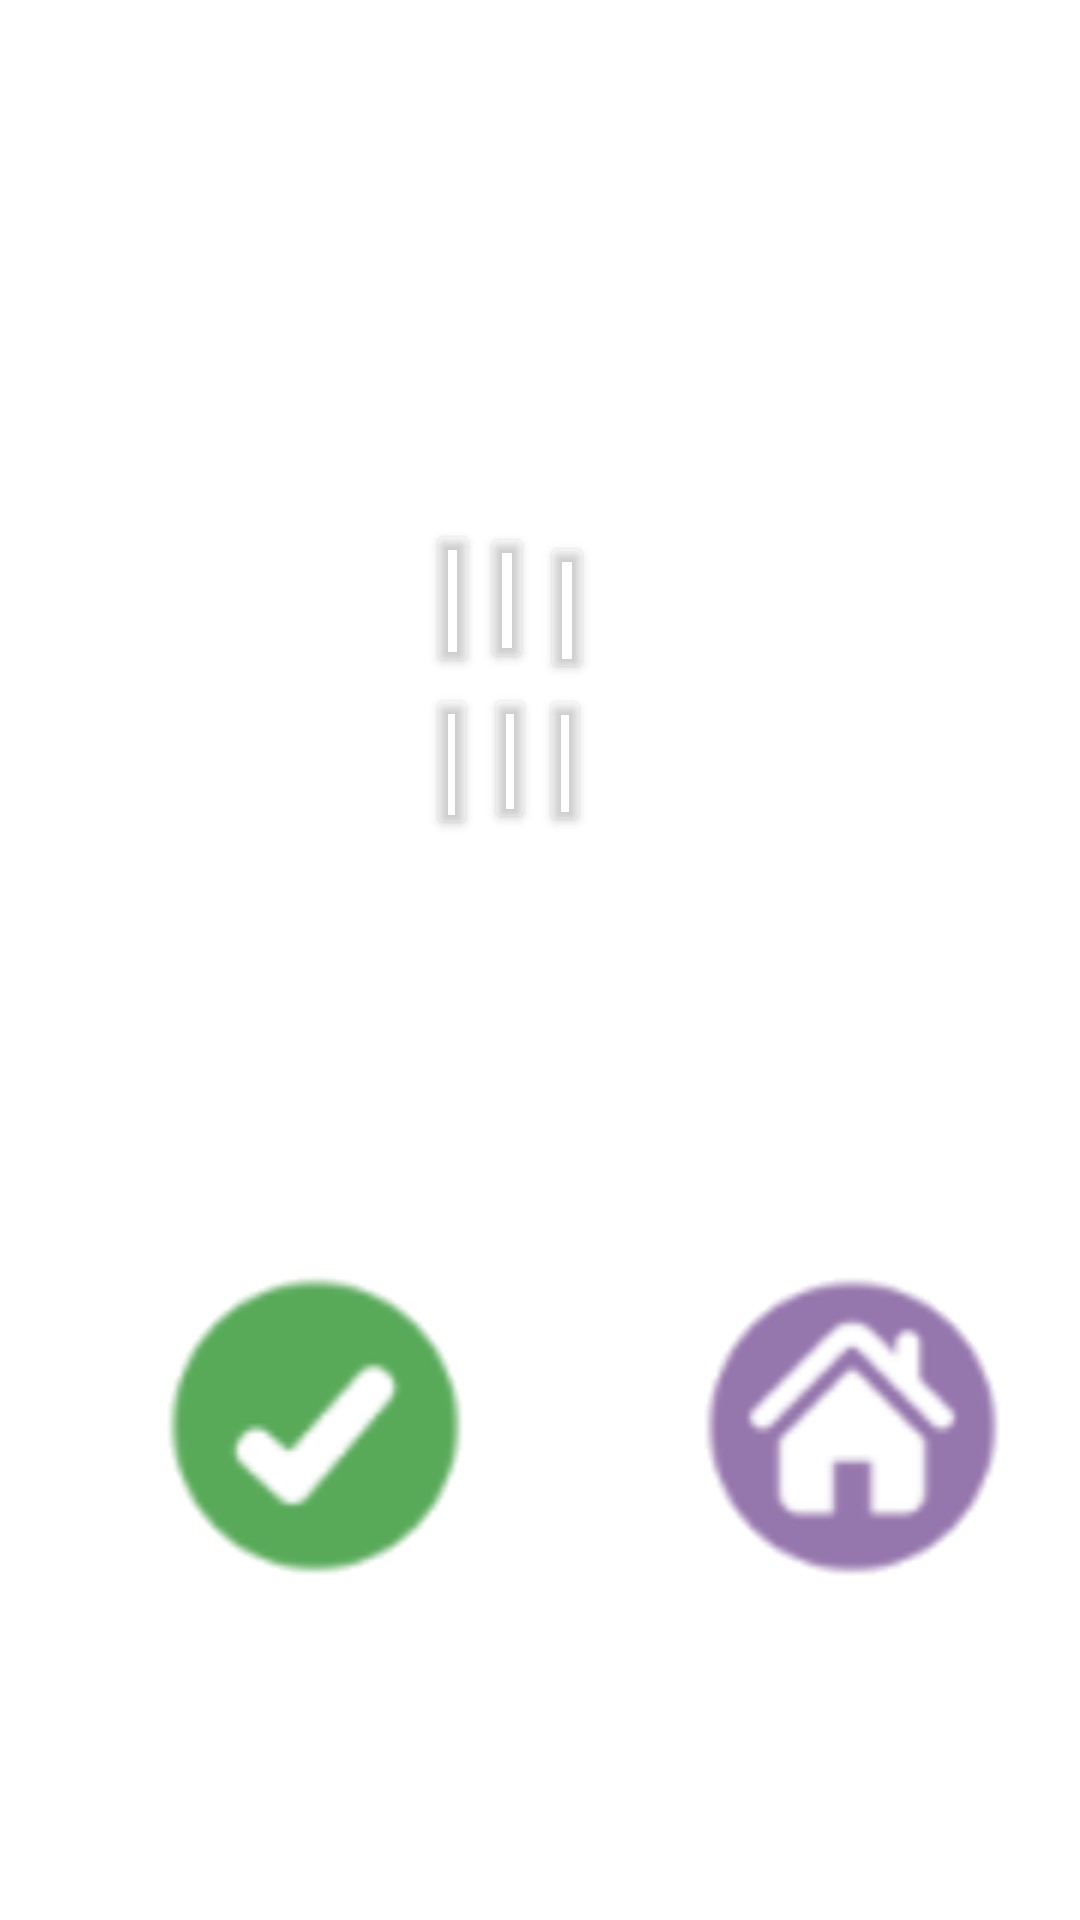

Point at icon controls on the screen. Image size 1080*1920, points as point (x, y).
check: point (315, 1426)
home: point (852, 1426)
